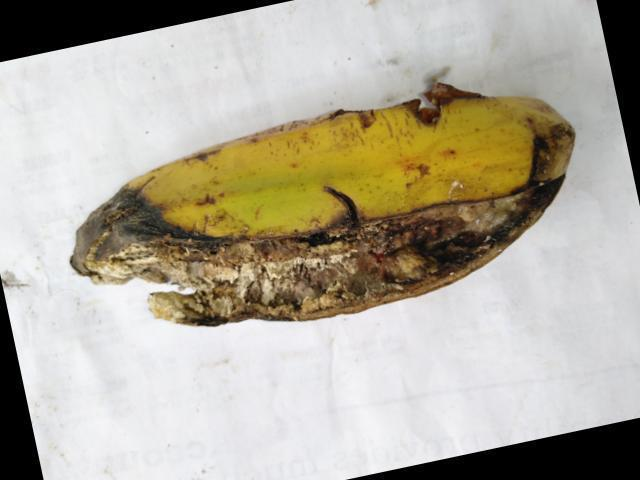rotten: (73, 93, 579, 376)
